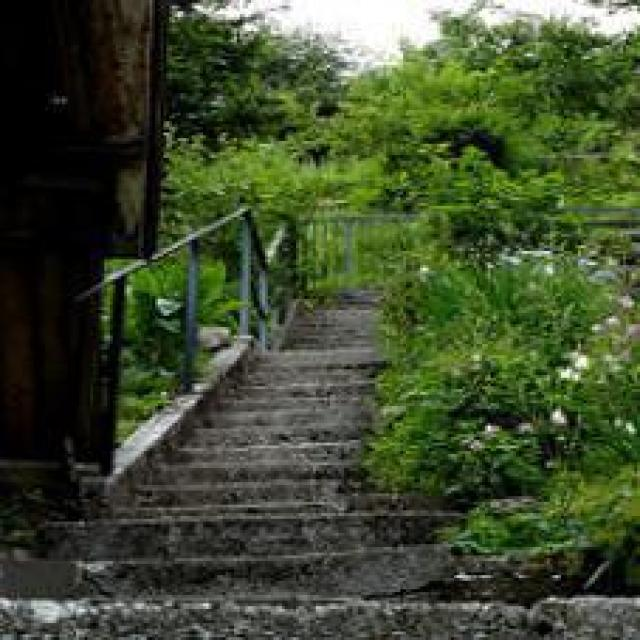upstair: (55, 407, 480, 624)
